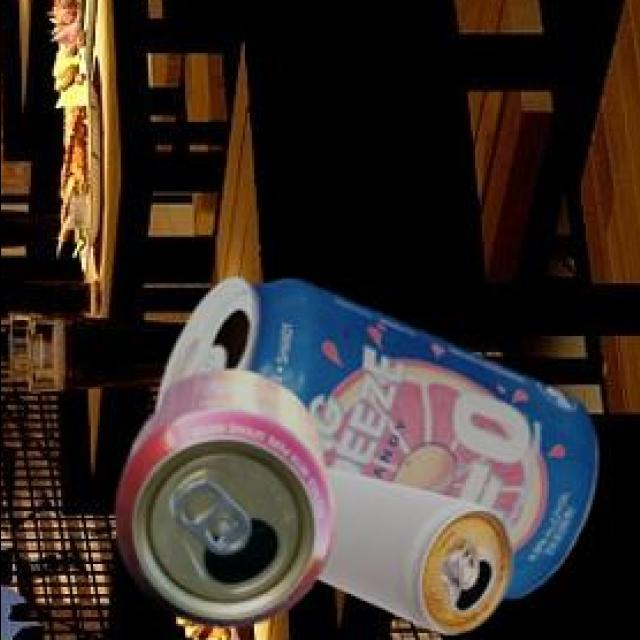logam: (153, 280, 593, 602), (112, 374, 330, 630), (314, 472, 508, 634)
